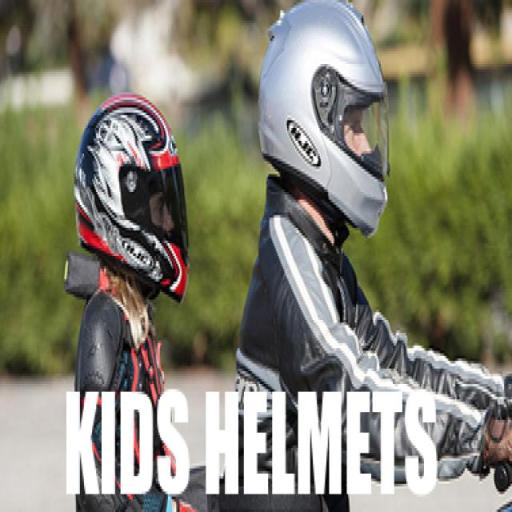Helmet: (229, 0, 409, 237), (68, 93, 208, 299)
